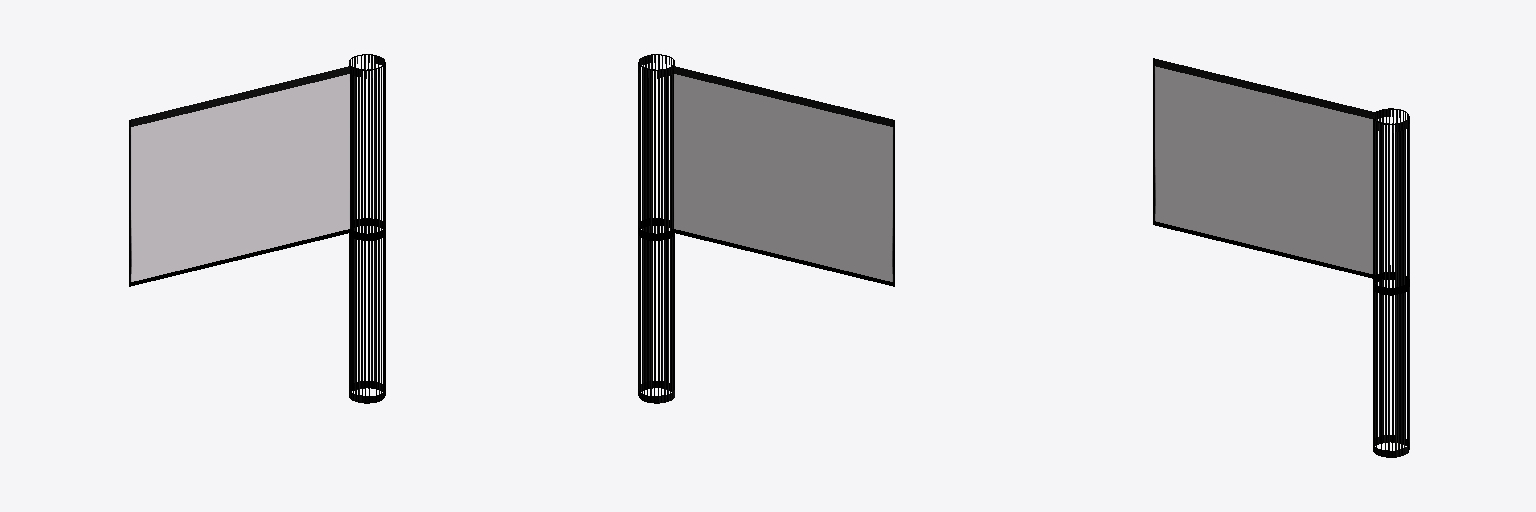
The picture shows the model from 3 angles: view 1: azimuth 30°, elevation 25°; view 2: azimuth 150°, elevation 25°; view 3: azimuth 330°, elevation 25°; orthographic projection.
Visible parts, largest first — view 1: 円柱; view 2: 円柱; view 3: 円柱.
Part boxes in pixels (left/top/right/bottom): 円柱: left=129, top=54, right=385, bottom=403; 円柱: left=638, top=54, right=894, bottom=403; 円柱: left=1153, top=58, right=1409, bottom=457.
Bounding box in the file's own units: 0.7965 × 1 × 0.1.
1 materials, 1 textured.